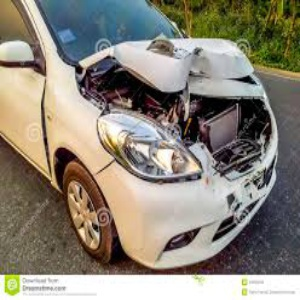bonnet: (123, 34, 244, 103)
